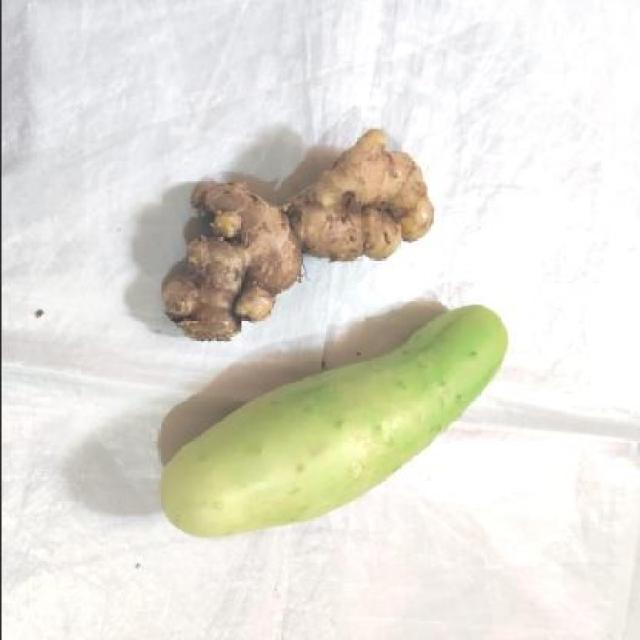Ginger: (128, 85, 472, 352)
cucumber: (150, 283, 530, 571)
